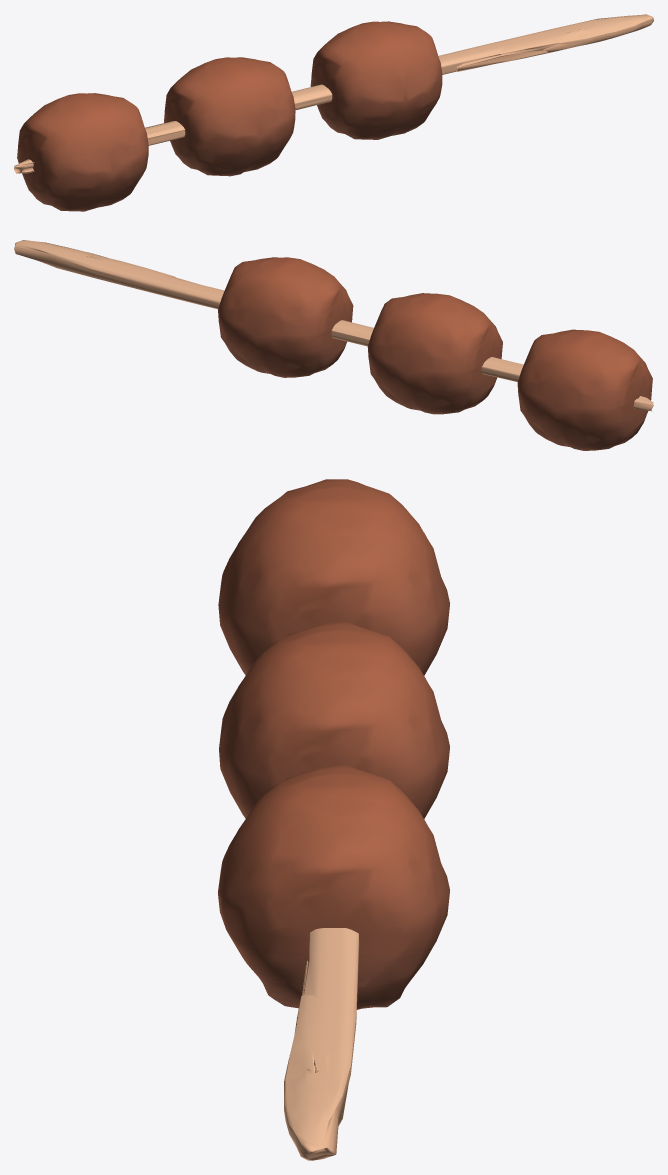
3 views of the same model, one above another, from view 1: azimuth 30°, elevation 25°; view 2: azimuth 150°, elevation 25°; view 3: azimuth 270°, elevation 25° (orthographic). The views are drawn at different scales.
Size of the model in its own units: 0.9604 by 0.1482 by 0.153.
1 material, 1 textured.
